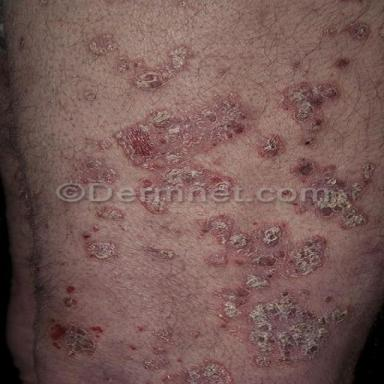Psoriasis: (194, 214, 351, 366), (114, 92, 259, 189), (290, 156, 376, 231), (280, 81, 341, 146), (115, 46, 194, 90), (158, 355, 234, 384), (49, 318, 104, 357), (72, 153, 116, 183), (82, 232, 116, 260), (97, 205, 127, 230), (143, 345, 169, 371), (257, 134, 285, 158), (89, 33, 116, 55), (153, 326, 178, 346), (344, 22, 370, 40), (147, 246, 175, 259), (97, 139, 112, 151), (335, 58, 350, 70), (62, 297, 77, 308), (322, 26, 337, 37), (66, 286, 76, 294), (293, 61, 301, 69)
